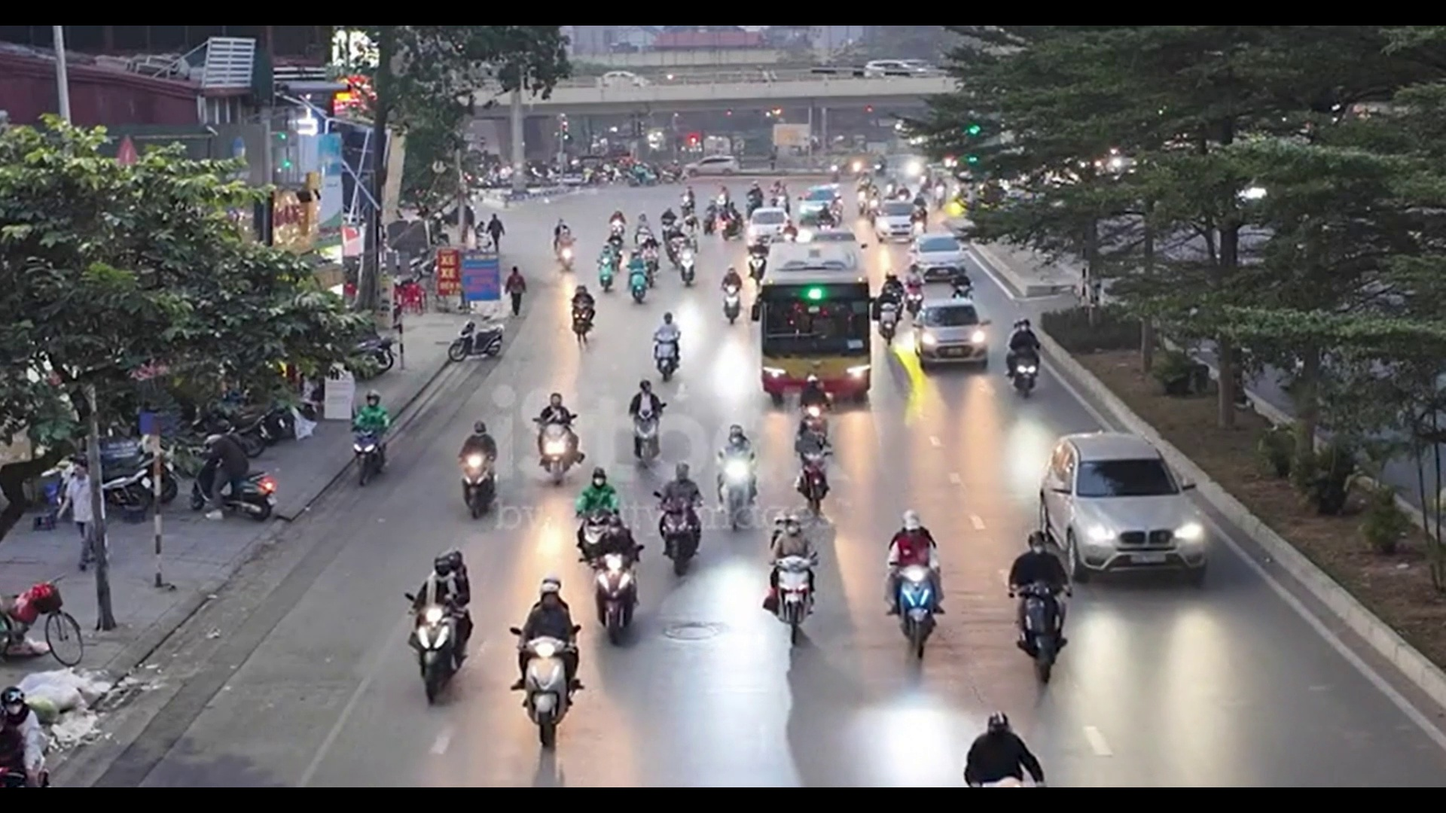bus: (754, 239, 873, 406)
car: (1037, 428, 1210, 583), (914, 299, 994, 369)
motorcycle: (406, 589, 472, 707), (0, 579, 86, 667), (193, 435, 277, 521), (1012, 580, 1071, 686), (579, 541, 639, 644), (889, 560, 944, 663), (761, 552, 818, 641), (594, 559, 640, 646), (657, 496, 702, 578), (459, 463, 498, 520)
